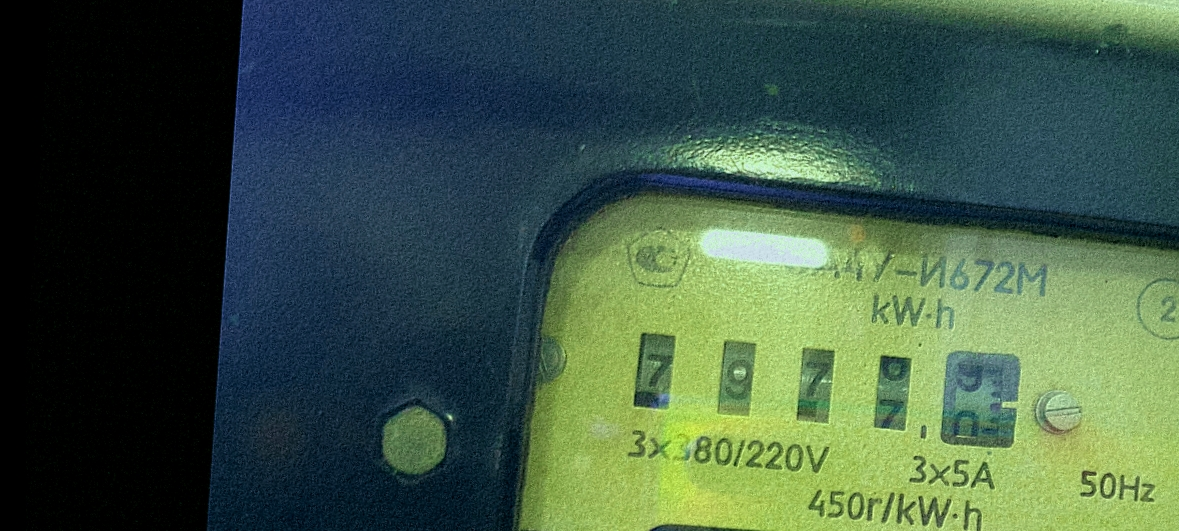0: (950, 404, 985, 445)
7: (801, 357, 834, 402), (642, 350, 675, 394), (875, 395, 907, 433)
9: (721, 356, 758, 403), (955, 357, 988, 395)
screen: (612, 309, 1048, 473)
